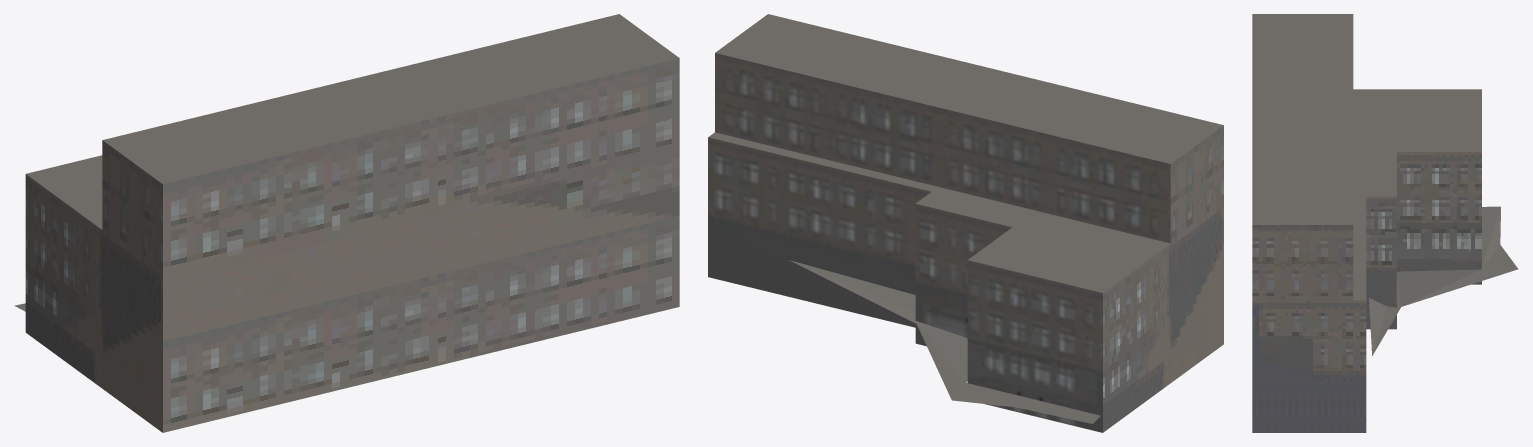
Rendered from loda68.obj.
3 views of the same model, side by side, from view 1: azimuth 30°, elevation 25°; view 2: azimuth 150°, elevation 25°; view 3: azimuth 270°, elevation 25° (orthographic). The views are drawn at different scales.
Visible parts, largest first — view 1: LODA68; view 2: LODA68; view 3: LODA68.
Part boxes in pixels (x1,y1,x2,y2): LODA68: (14,14,679,432); LODA68: (708,14,1223,432); LODA68: (1252,14,1518,432).
Bounding box in the file's own units: 87.56 × 40.25 × 46.68.
Materials: 5 (5 with a texture image).
